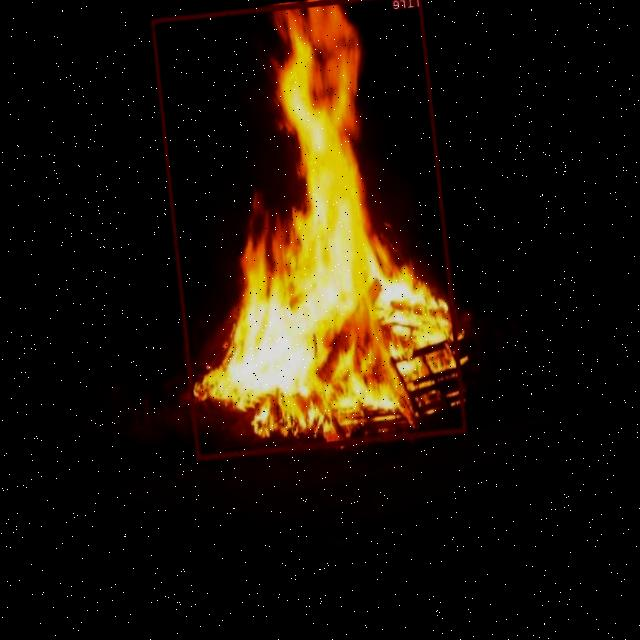fire: (151, 0, 467, 458)
